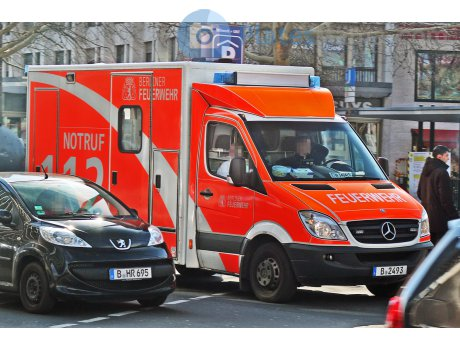License Plates: (111, 264, 154, 281), (374, 261, 412, 277)
